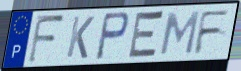E: (126, 9, 166, 61)
F: (26, 14, 66, 65), (192, 9, 232, 57)
K: (64, 15, 96, 61)
M: (158, 10, 201, 57)
P: (93, 11, 130, 62)
